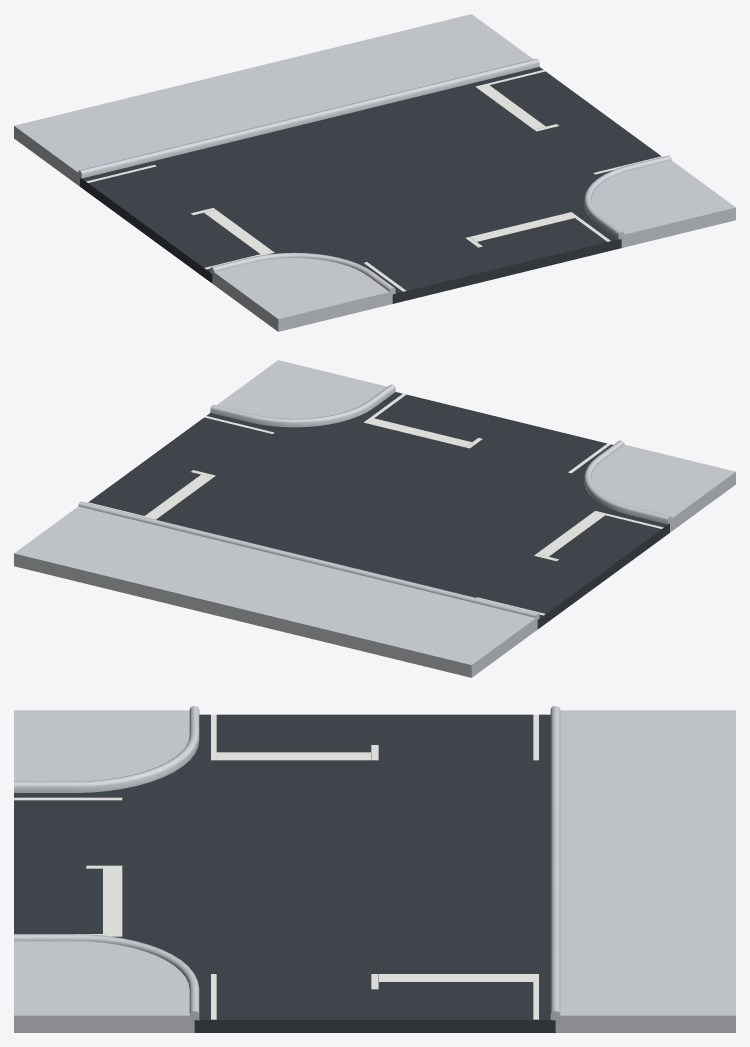
Rendered from rua_cruzamento_t.glb.
3 renders of one model, top to bottom at view 1: azimuth 30°, elevation 25°; view 2: azimuth 150°, elevation 25°; view 3: azimuth 270°, elevation 25°, orthographic. The views are drawn at different scales.
Visible parts, largest first — view 1: rua_cruzamento_t; view 2: rua_cruzamento_t; view 3: rua_cruzamento_t.
Boxes of the visible parts, box(x1,y1,x2,y2) form: rua_cruzamento_t: box(14, 14, 735, 331); rua_cruzamento_t: box(14, 360, 735, 677); rua_cruzamento_t: box(14, 706, 735, 1032).
Size of the model in its own units: 15 by 0.5 by 15.
Materials: 1 (1 with a texture image).
